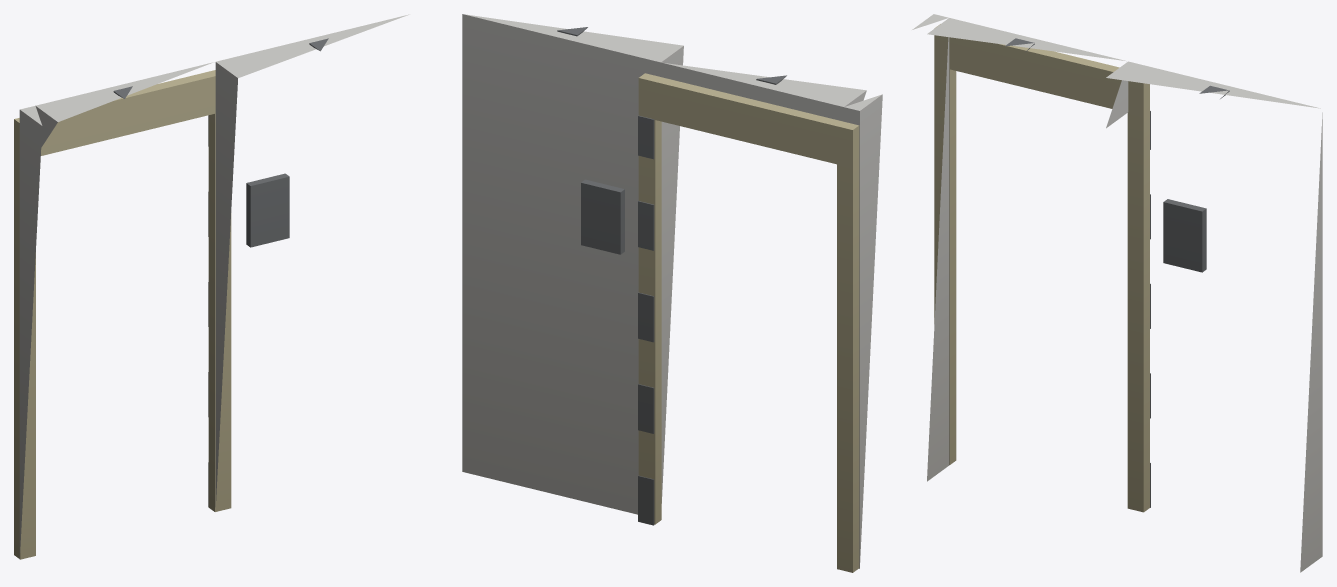
File: airlockWall_concrete_meshin.glb
3 views of the same model, side by side, from view 1: azimuth 30°, elevation 25°; view 2: azimuth 150°, elevation 25°; view 3: azimuth 330°, elevation 25° (orthographic). The views are drawn at different scales.
Visible parts, largest first — view 1: airlockWall_concrete_meshin; view 2: airlockWall_concrete_meshin; view 3: airlockWall_concrete_meshin.
Part boxes in pixels (bbox=[...]): airlockWall_concrete_meshin: bbox=[14, 14, 409, 559]; airlockWall_concrete_meshin: bbox=[462, 14, 882, 572]; airlockWall_concrete_meshin: bbox=[912, 14, 1322, 572].
Bounding box in the file's own units: 2 × 2.21 × 0.263.
